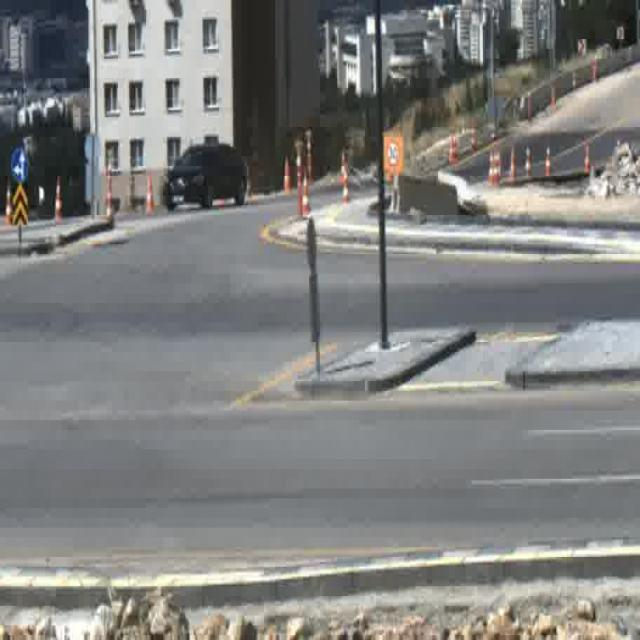Car: (166, 143, 247, 210)
